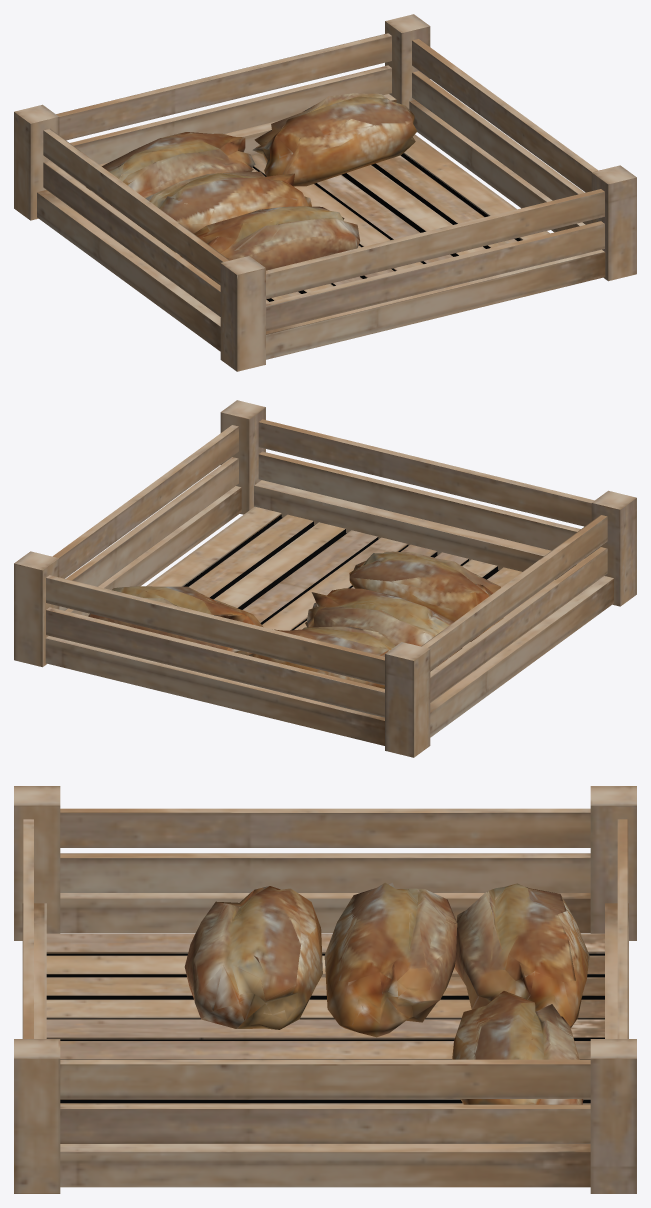
The model's file is MS_BreadStack4.fbx.
3 renders of one model, top to bottom at view 1: azimuth 30°, elevation 25°; view 2: azimuth 150°, elevation 25°; view 3: azimuth 270°, elevation 25°, orthographic. The views are drawn at different scales.
Visible parts, largest first — view 1: Cube.005; view 2: Cube.005; view 3: Cube.005.
Boxes of the visible parts, x1,y1,x2,y2 form: Cube.005: (14,14,636,371); Cube.005: (14,400,636,757); Cube.005: (14,786,636,1193).
Bounding box in the file's own units: 903 × 209 × 872.
1 material, 1 textured.
